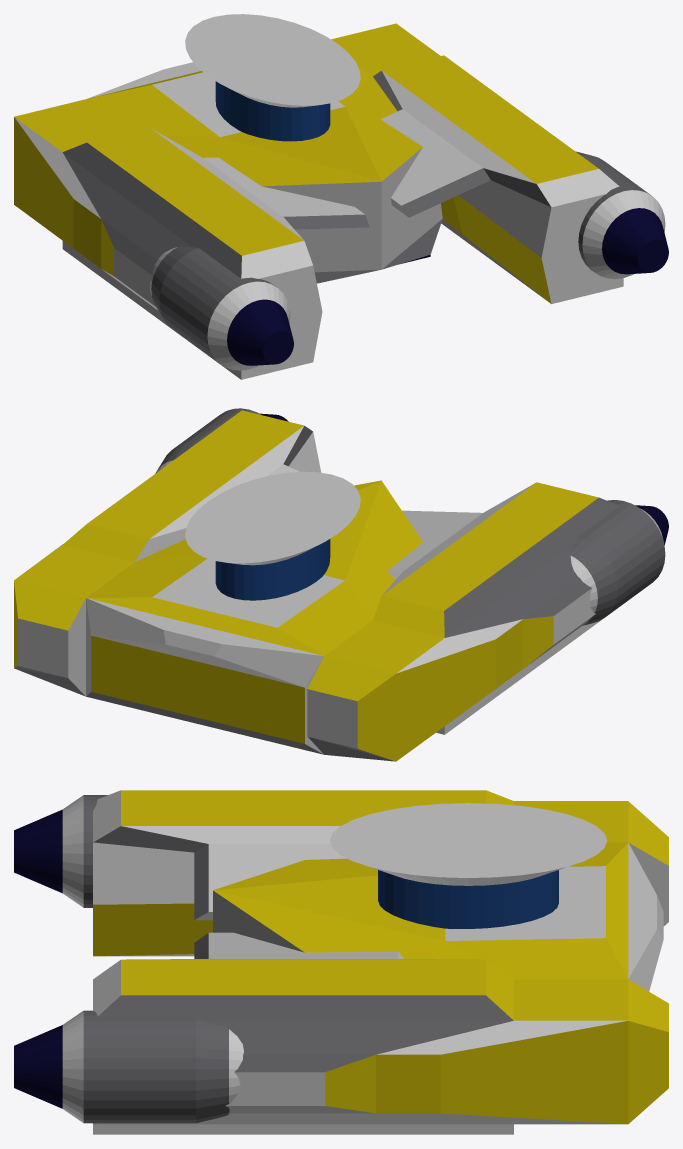
The model's file is ship3.fbx.
3 views of the same model, one above another, from view 1: azimuth 30°, elevation 25°; view 2: azimuth 150°, elevation 25°; view 3: azimuth 270°, elevation 25° (orthographic). The views are drawn at different scales.
Parts seen in each view (by area): view 1: Cube; view 2: Cube; view 3: Cube.
Boxes of the visible parts, bbox=[...] form: Cube: bbox=[14, 14, 668, 379]; Cube: bbox=[14, 408, 668, 761]; Cube: bbox=[14, 790, 668, 1134].
Size of the model in its own units: 6.3 by 6.63 by 2.09.
